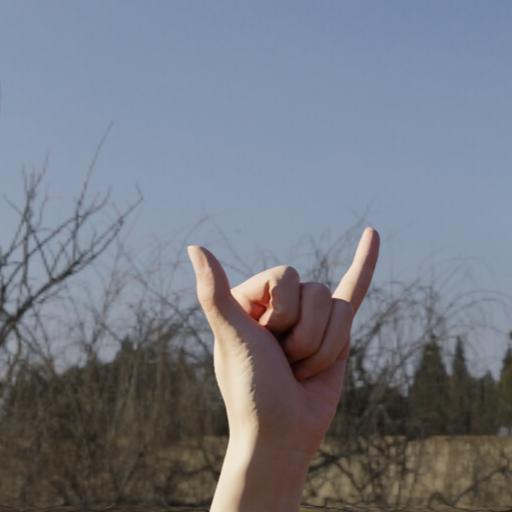Y: (162, 208, 400, 460)
